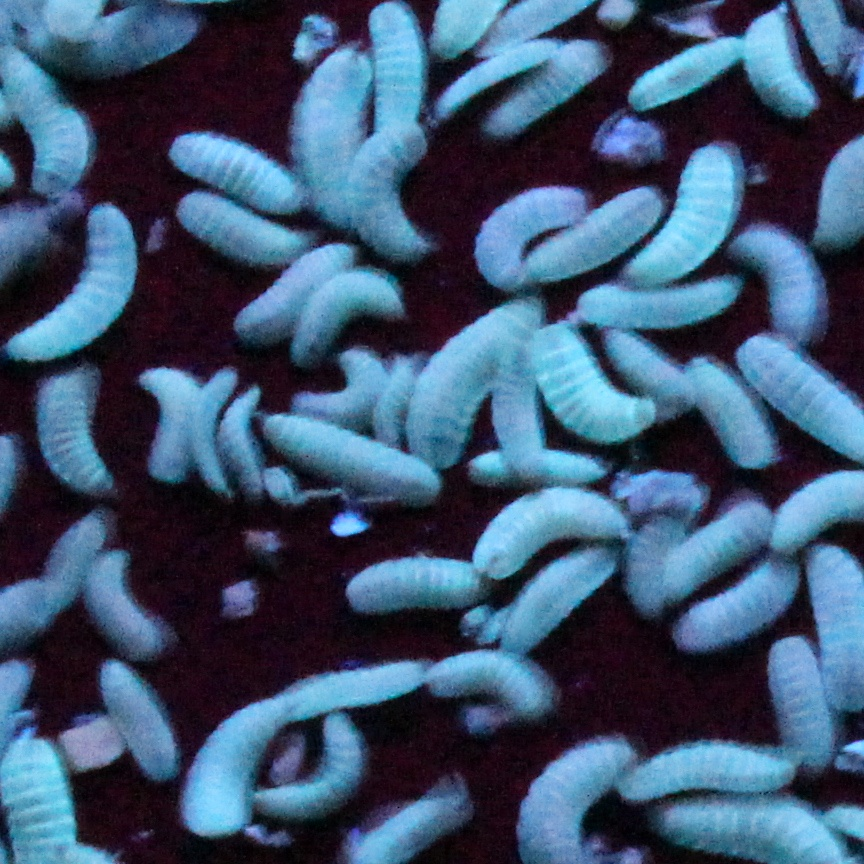larve: (407, 301, 541, 466), (2, 201, 137, 361), (259, 412, 441, 508), (632, 140, 746, 284), (466, 489, 638, 578), (529, 324, 653, 442), (497, 544, 621, 661), (181, 691, 278, 836), (168, 131, 312, 223), (672, 556, 808, 653), (290, 46, 378, 192), (176, 186, 328, 270), (480, 46, 604, 146), (251, 714, 363, 822), (528, 188, 658, 280), (473, 187, 587, 291), (360, 120, 440, 268), (233, 248, 357, 343), (618, 742, 801, 804), (664, 498, 771, 603), (734, 226, 826, 348), (424, 642, 558, 723), (39, 367, 123, 493), (736, 2, 822, 124), (272, 658, 424, 724), (358, 2, 428, 140), (102, 657, 177, 783), (766, 631, 831, 772), (688, 364, 770, 474), (574, 274, 744, 327), (87, 552, 167, 660), (291, 347, 388, 436), (434, 40, 564, 106), (344, 556, 484, 617), (628, 42, 740, 114), (140, 359, 203, 486), (610, 332, 698, 410), (42, 517, 106, 613), (214, 388, 264, 502), (188, 373, 232, 500), (630, 511, 679, 609), (471, 452, 610, 483)
